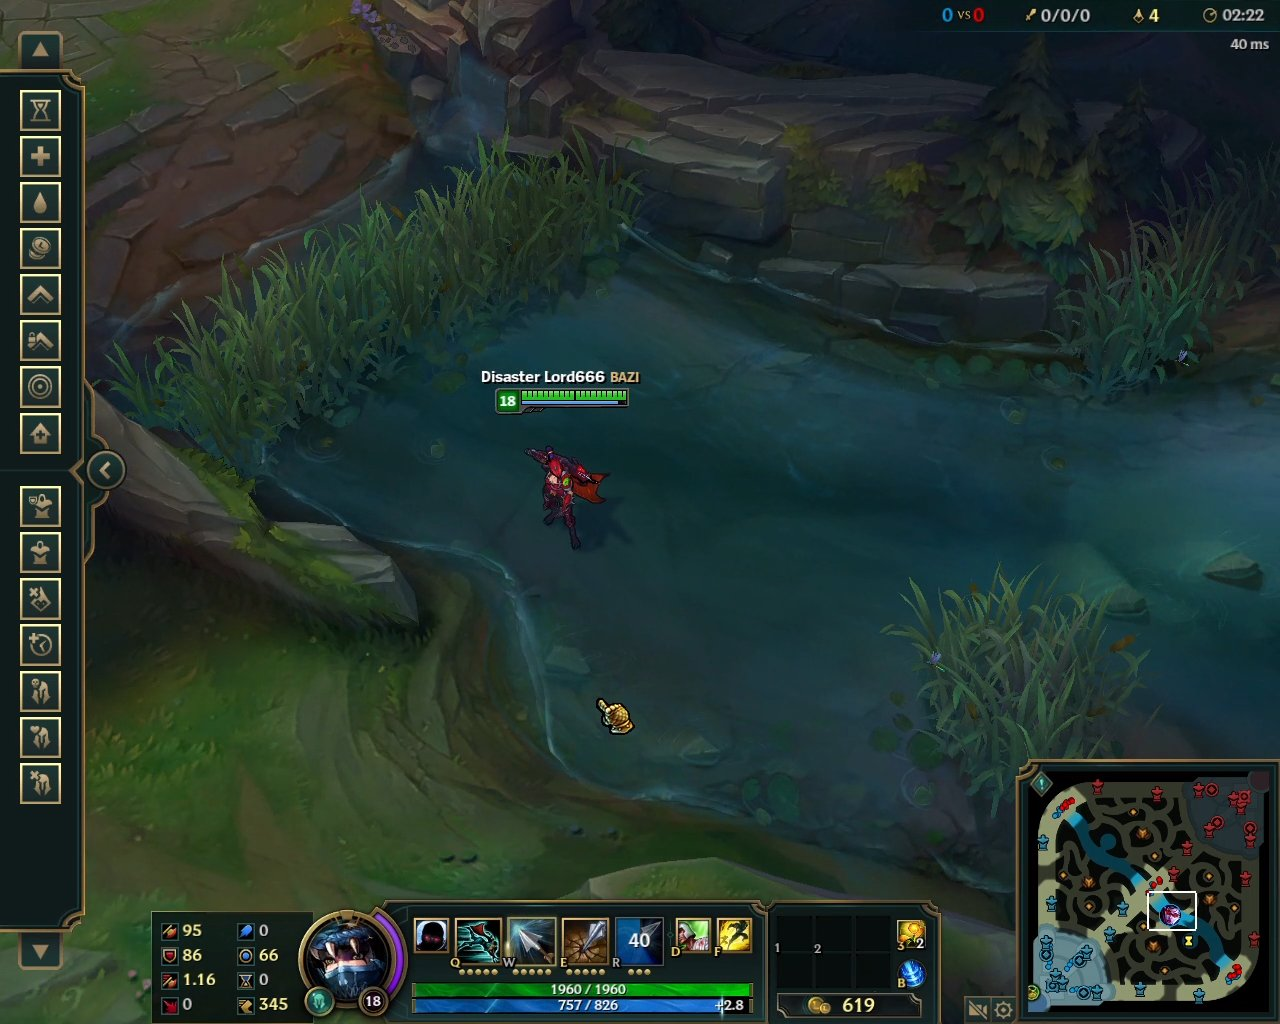Vayne: (521, 432, 616, 560)
